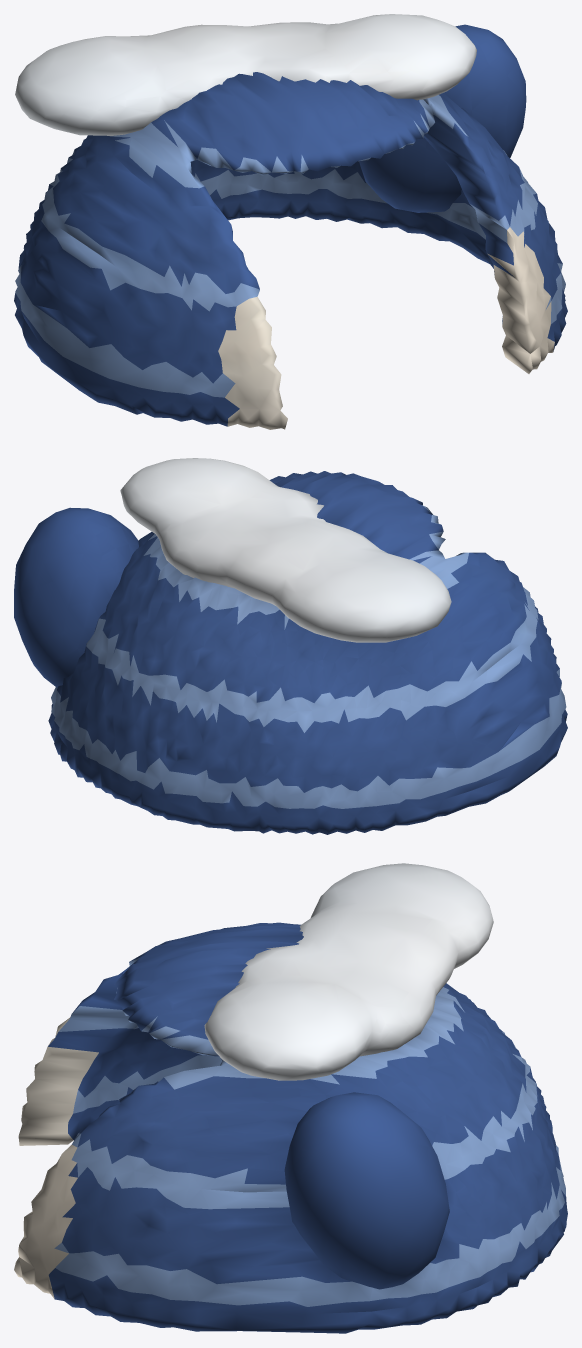
The model's file is frost_mitten_hut.glb.
3 renders of one model, top to bottom at view 1: azimuth 30°, elevation 25°; view 2: azimuth 150°, elevation 25°; view 3: azimuth 270°, elevation 25°, orthographic. The views are drawn at different scales.
Parts seen in each view (by area): view 1: frost_mitten_hut; view 2: frost_mitten_hut; view 3: frost_mitten_hut.
Part boxes in pixels (x1=…): frost_mitten_hut: x1=14, y1=14, x2=567, y2=429; frost_mitten_hut: x1=14, y1=458, x2=567, y2=834; frost_mitten_hut: x1=14, y1=863, x2=567, y2=1333.
Bounding box in the file's own units: 14.54 × 7.1 × 12.82.
